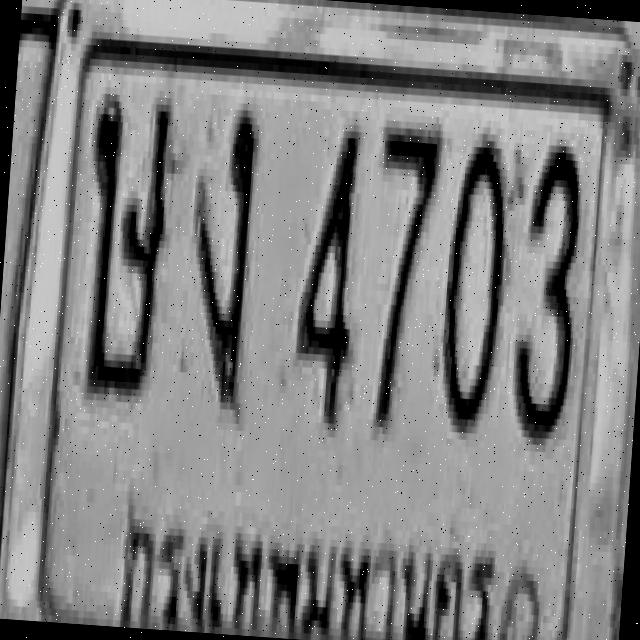0: (434, 128, 515, 438)
16NgorNgu: (180, 104, 260, 414)
3: (508, 136, 586, 446)
4: (290, 118, 366, 428)
48SorRueSi: (76, 86, 180, 404)
7: (362, 120, 443, 436)
Bangkok: (109, 476, 501, 640)
